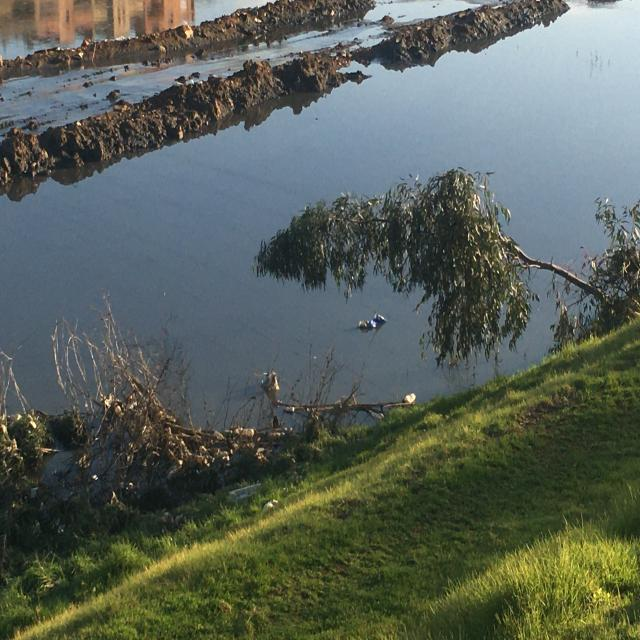Plastic bag: (355, 310, 391, 335)
Plastic bottle: (402, 390, 417, 404)
